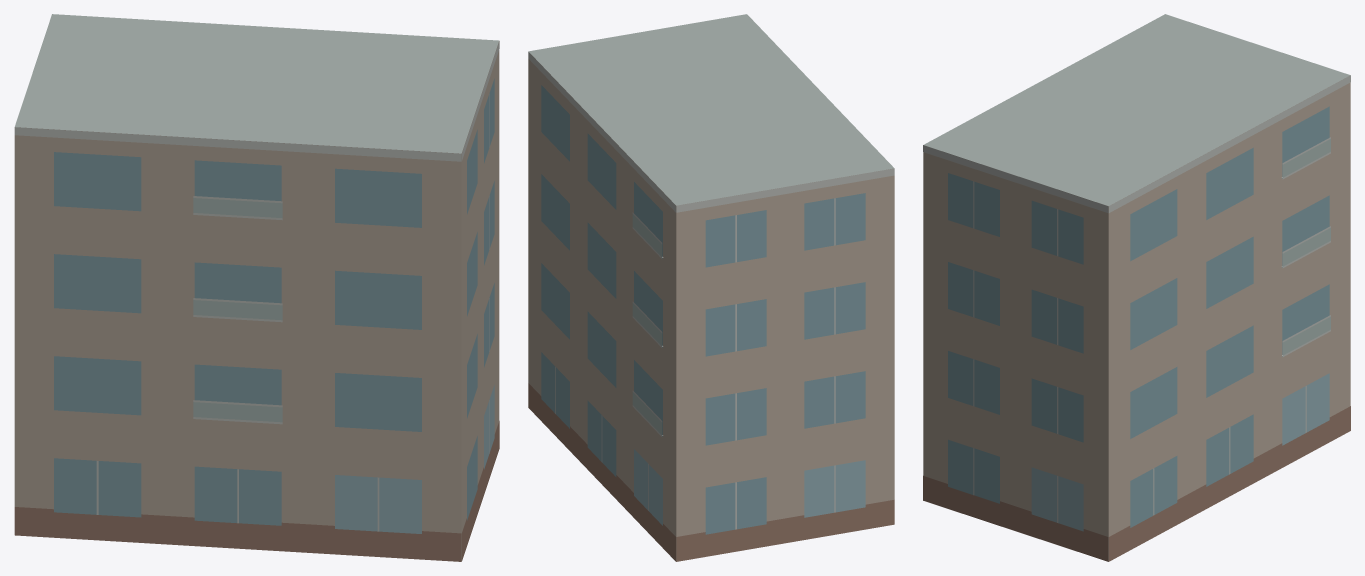
File: residential-fd650cf3-1b94-4192-8a7e-e55f9a0d5aff.glb
3 views of the same model, side by side, from view 1: azimuth 30°, elevation 25°; view 2: azimuth 150°, elevation 25°; view 3: azimuth 270°, elevation 25° (orthographic). The views are drawn at different scales.
Visible parts, largest first — view 1: residential-fd650cf3-1b94-4192-8a7e-e55f9a0d5aff.tmp; view 2: residential-fd650cf3-1b94-4192-8a7e-e55f9a0d5aff.tmp; view 3: residential-fd650cf3-1b94-4192-8a7e-e55f9a0d5aff.tmp.
Part boxes in pixels (x1,y1,x2,y2): residential-fd650cf3-1b94-4192-8a7e-e55f9a0d5aff.tmp: (14,14,499,561); residential-fd650cf3-1b94-4192-8a7e-e55f9a0d5aff.tmp: (528,14,894,561); residential-fd650cf3-1b94-4192-8a7e-e55f9a0d5aff.tmp: (923,14,1350,561).
Bounding box in the file's own units: 14.15 × 12.2 × 13.3.
